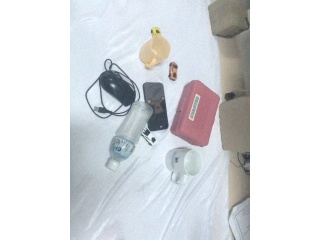bottle: (105, 102, 158, 172)
box: (169, 79, 222, 148), (209, 1, 250, 38)
cup: (164, 147, 203, 175), (138, 37, 170, 70)
mouse: (99, 70, 137, 109)
phone: (142, 80, 168, 130)
toy_car: (142, 130, 159, 145), (168, 62, 179, 81), (148, 25, 162, 36)
